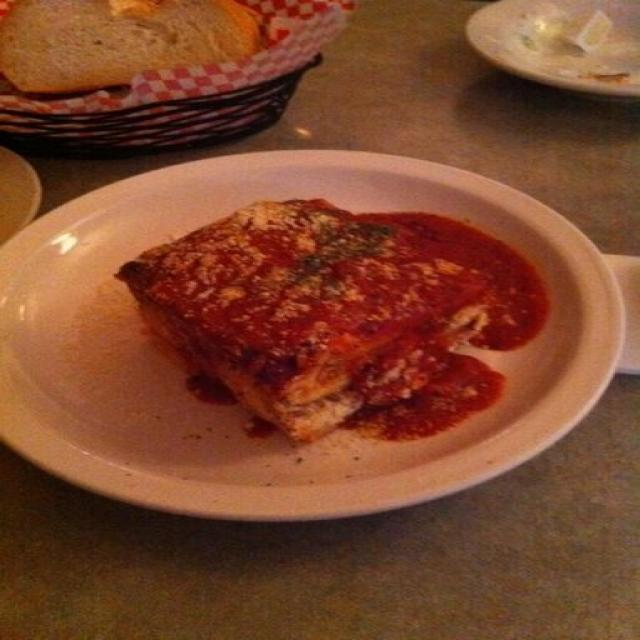Lasagna: (119, 195, 487, 427)
